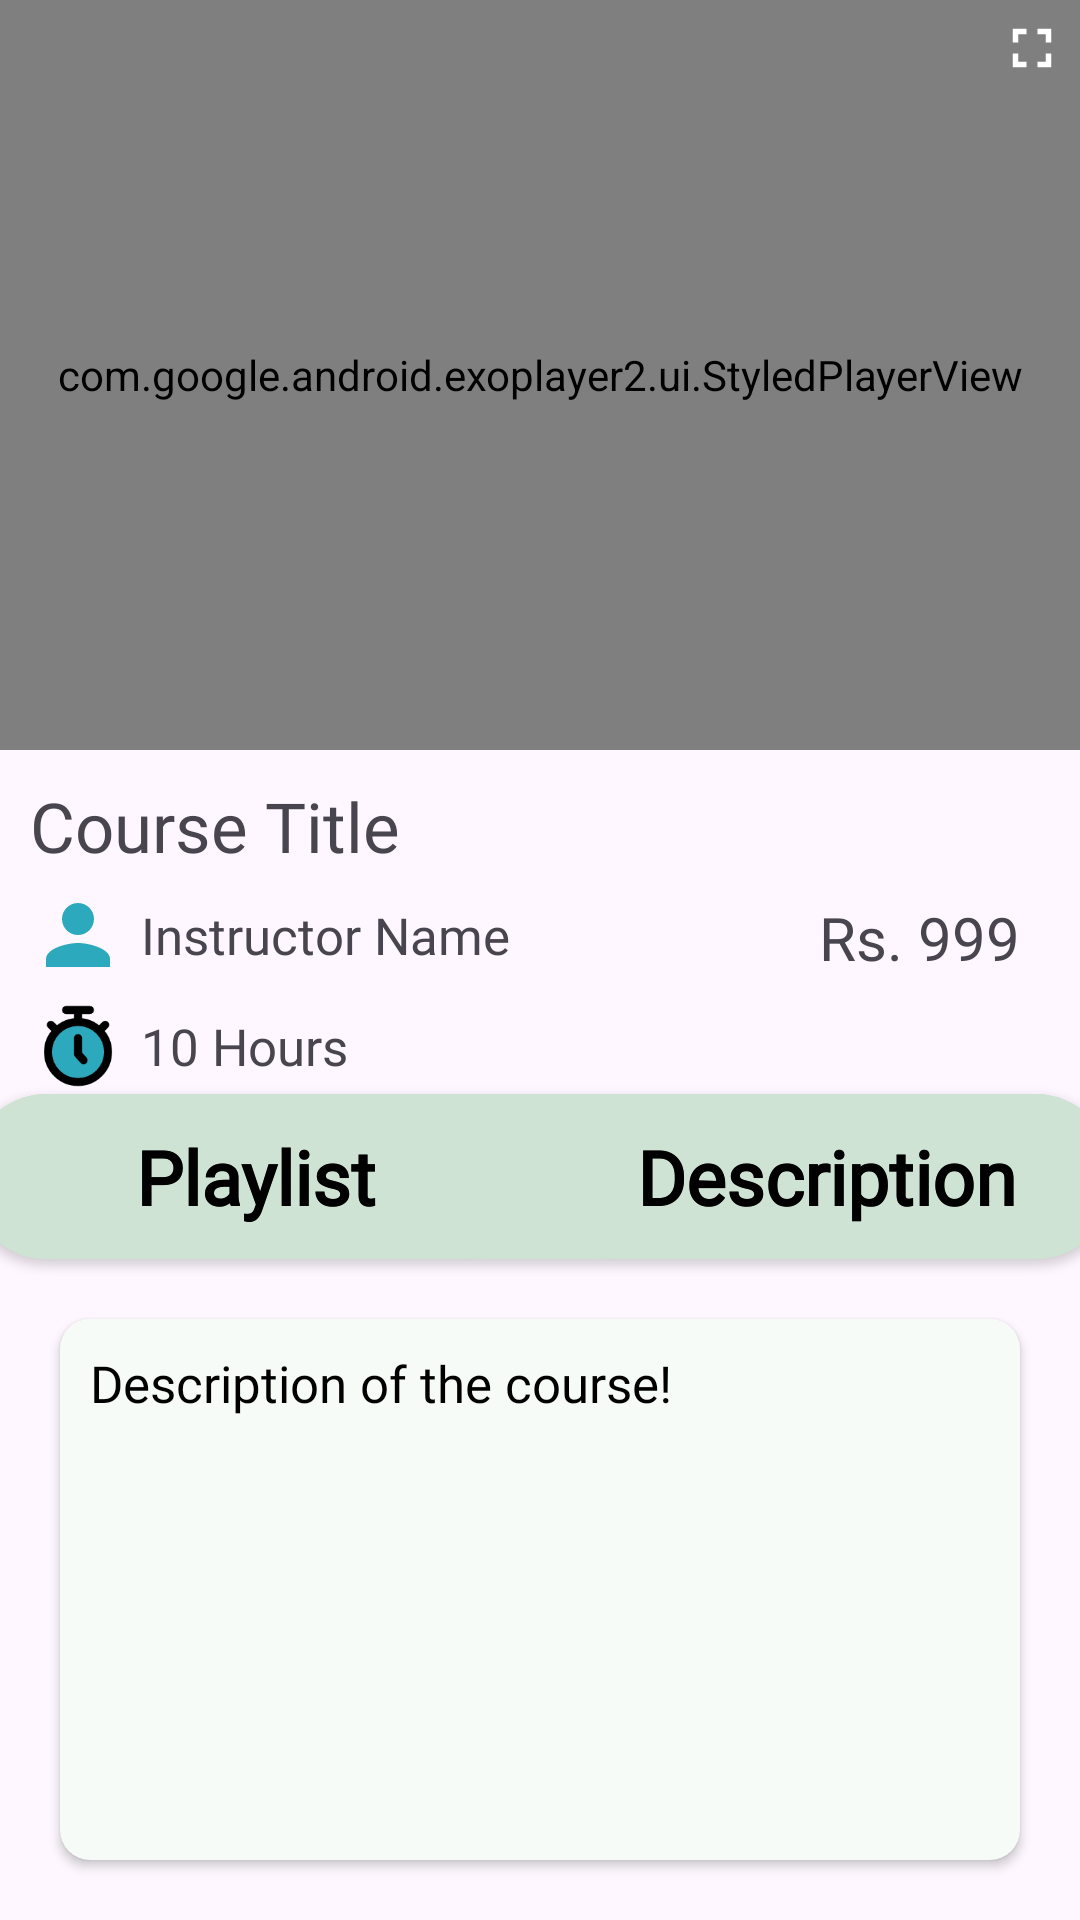

Locate icon controls on the screen. Image size 1080*1920, boxes as (x1, y1, x2, y2).
duration: (44, 1005, 112, 1087)
fullscreen: (1012, 28, 1052, 68)
person: (46, 903, 110, 967)
